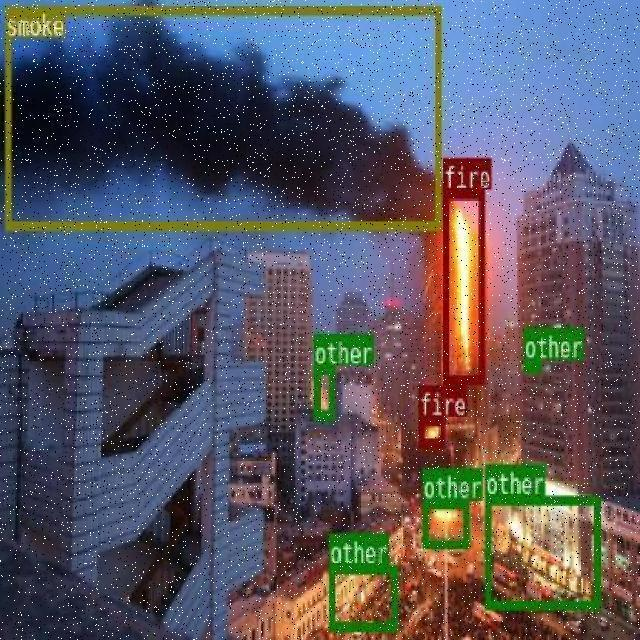Smoke: (4, 5, 440, 229), (484, 494, 598, 608), (328, 564, 396, 628), (422, 498, 468, 546), (313, 366, 333, 419), (523, 358, 540, 370)
